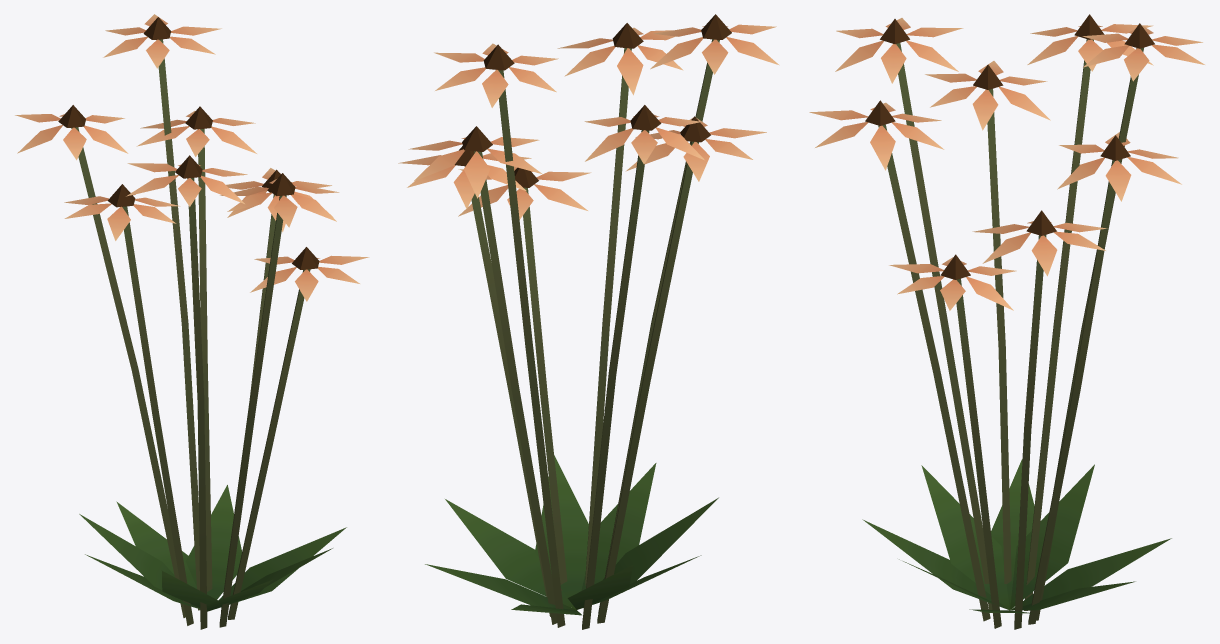
File: flower-coneflower.lod1.glb
The picture shows the model from 3 angles, left to right: view 1: azimuth 30°, elevation 25°; view 2: azimuth 150°, elevation 25°; view 3: azimuth 270°, elevation 25°; orthographic projection. The views are drawn at different scales.
Visible parts, largest first — view 1: flower_coneflower_mesh; view 2: flower_coneflower_mesh; view 3: flower_coneflower_mesh.
Boxes of the visible parts, x1,y1,x2,y2 form: flower_coneflower_mesh: (15,14,369,629); flower_coneflower_mesh: (398,14,779,629); flower_coneflower_mesh: (809,14,1204,629).
Size of the model in its own units: 0.4562 by 0.8184 by 0.4907.
Materials: 1 (1 with a texture image).
